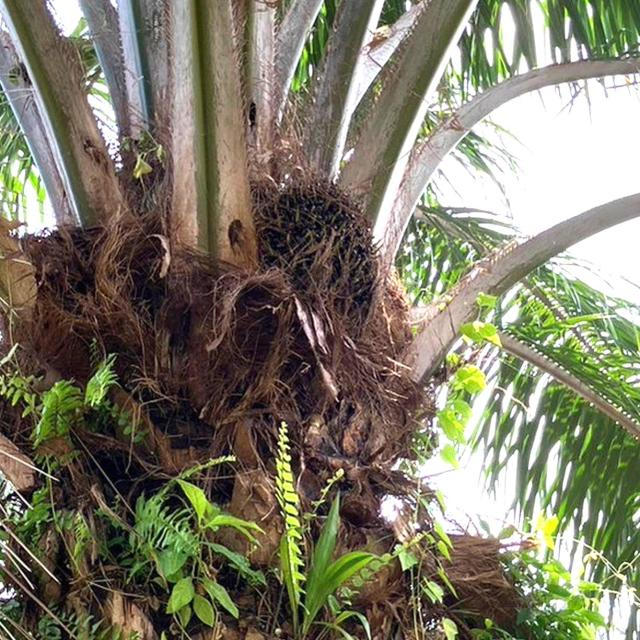unripe: (234, 160, 395, 340)
